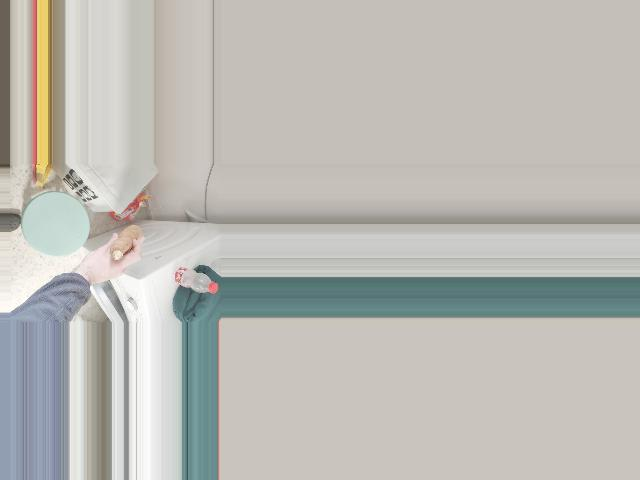sweet_potato: (105, 226, 145, 264)
